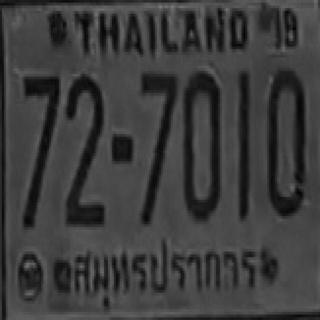N00: (265, 66, 304, 213), (182, 68, 219, 219)
N01: (236, 70, 249, 209), (236, 70, 249, 198)
N02: (64, 74, 103, 216), (64, 74, 103, 205)
N07: (139, 71, 177, 216), (22, 74, 59, 219), (139, 71, 177, 197), (139, 71, 177, 183), (22, 74, 59, 183), (22, 74, 59, 164), (139, 71, 177, 158)
P57: (66, 234, 262, 304)
